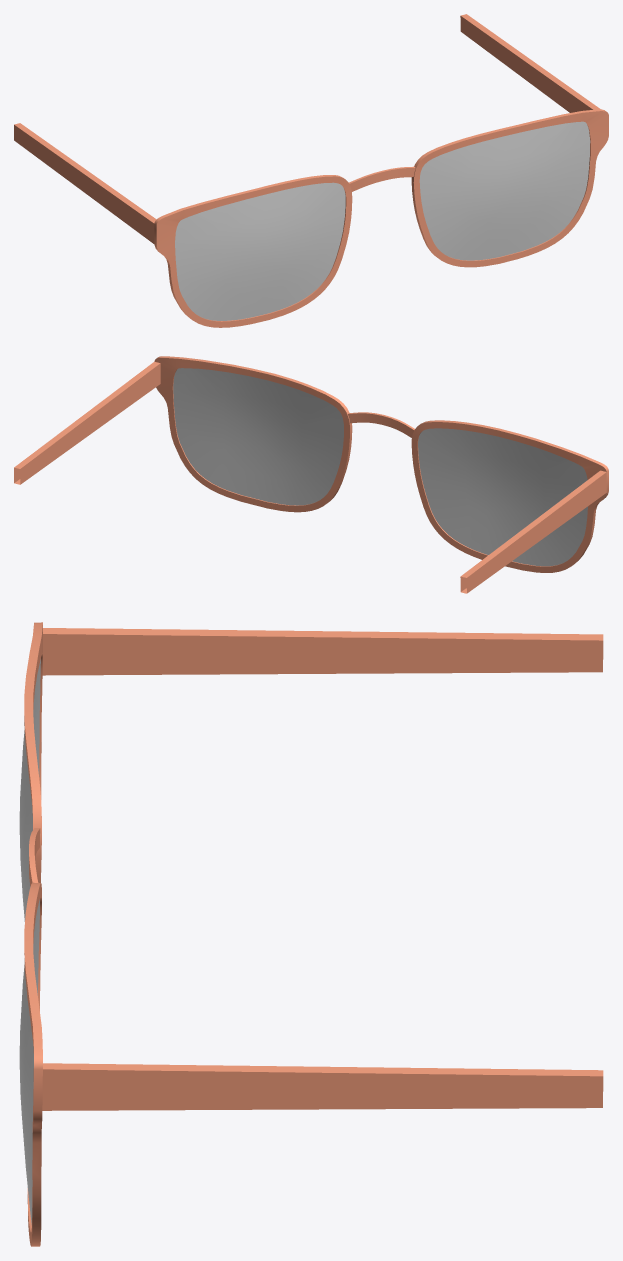
File: PRADA Glasses Optimized Cutoff.fbx
3 renders of one model, top to bottom at view 1: azimuth 30°, elevation 25°; view 2: azimuth 150°, elevation 25°; view 3: azimuth 270°, elevation 25°, orthographic. The views are drawn at different scales.
Parts seen in each view (by area): view 1: PRADA Glasses Optimized Cutoff; view 2: PRADA Glasses Optimized Cutoff; view 3: PRADA Glasses Optimized Cutoff.
Part boxes in pixels (x1,y1,x2,y2): PRADA Glasses Optimized Cutoff: [14, 14, 608, 327]; PRADA Glasses Optimized Cutoff: [14, 356, 608, 593]; PRADA Glasses Optimized Cutoff: [19, 622, 603, 1246].
Bounding box in the file's own units: 0.1671 × 0.0471 × 0.0933.
